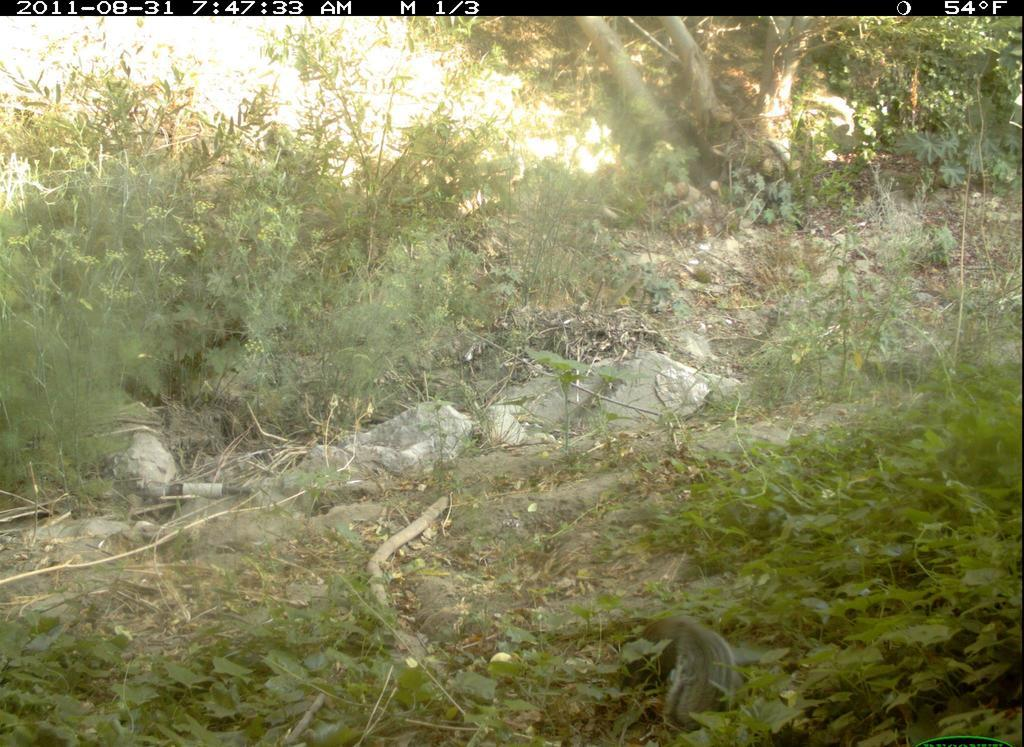squirrel: (632, 611, 745, 730)
